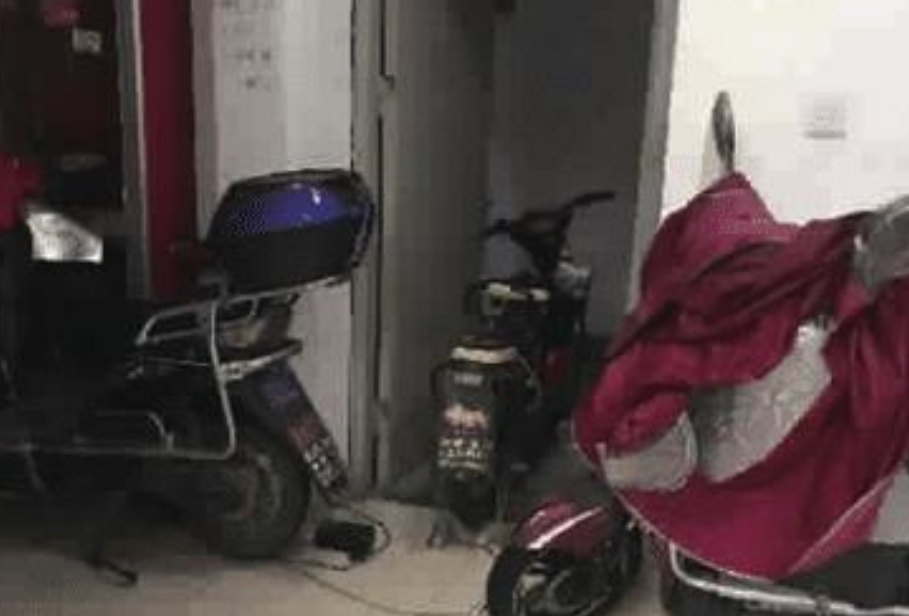ebike: (492, 92, 909, 612), (2, 163, 378, 547), (433, 192, 600, 519)
